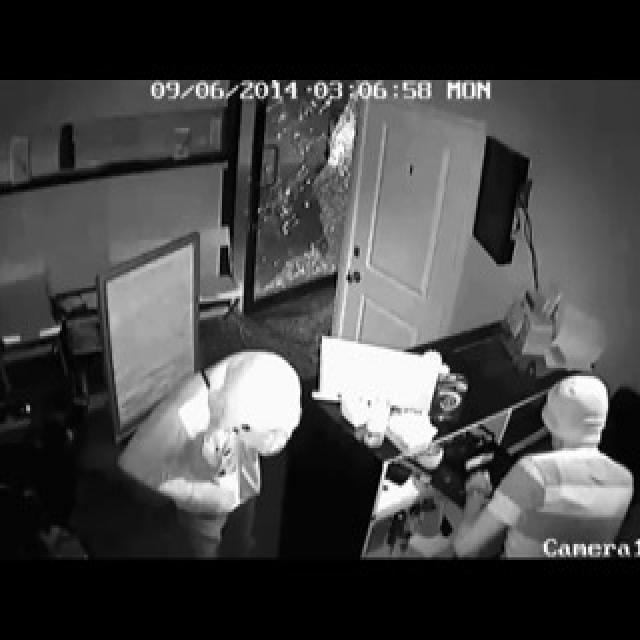thief: (130, 325, 304, 534), (513, 380, 628, 585)
